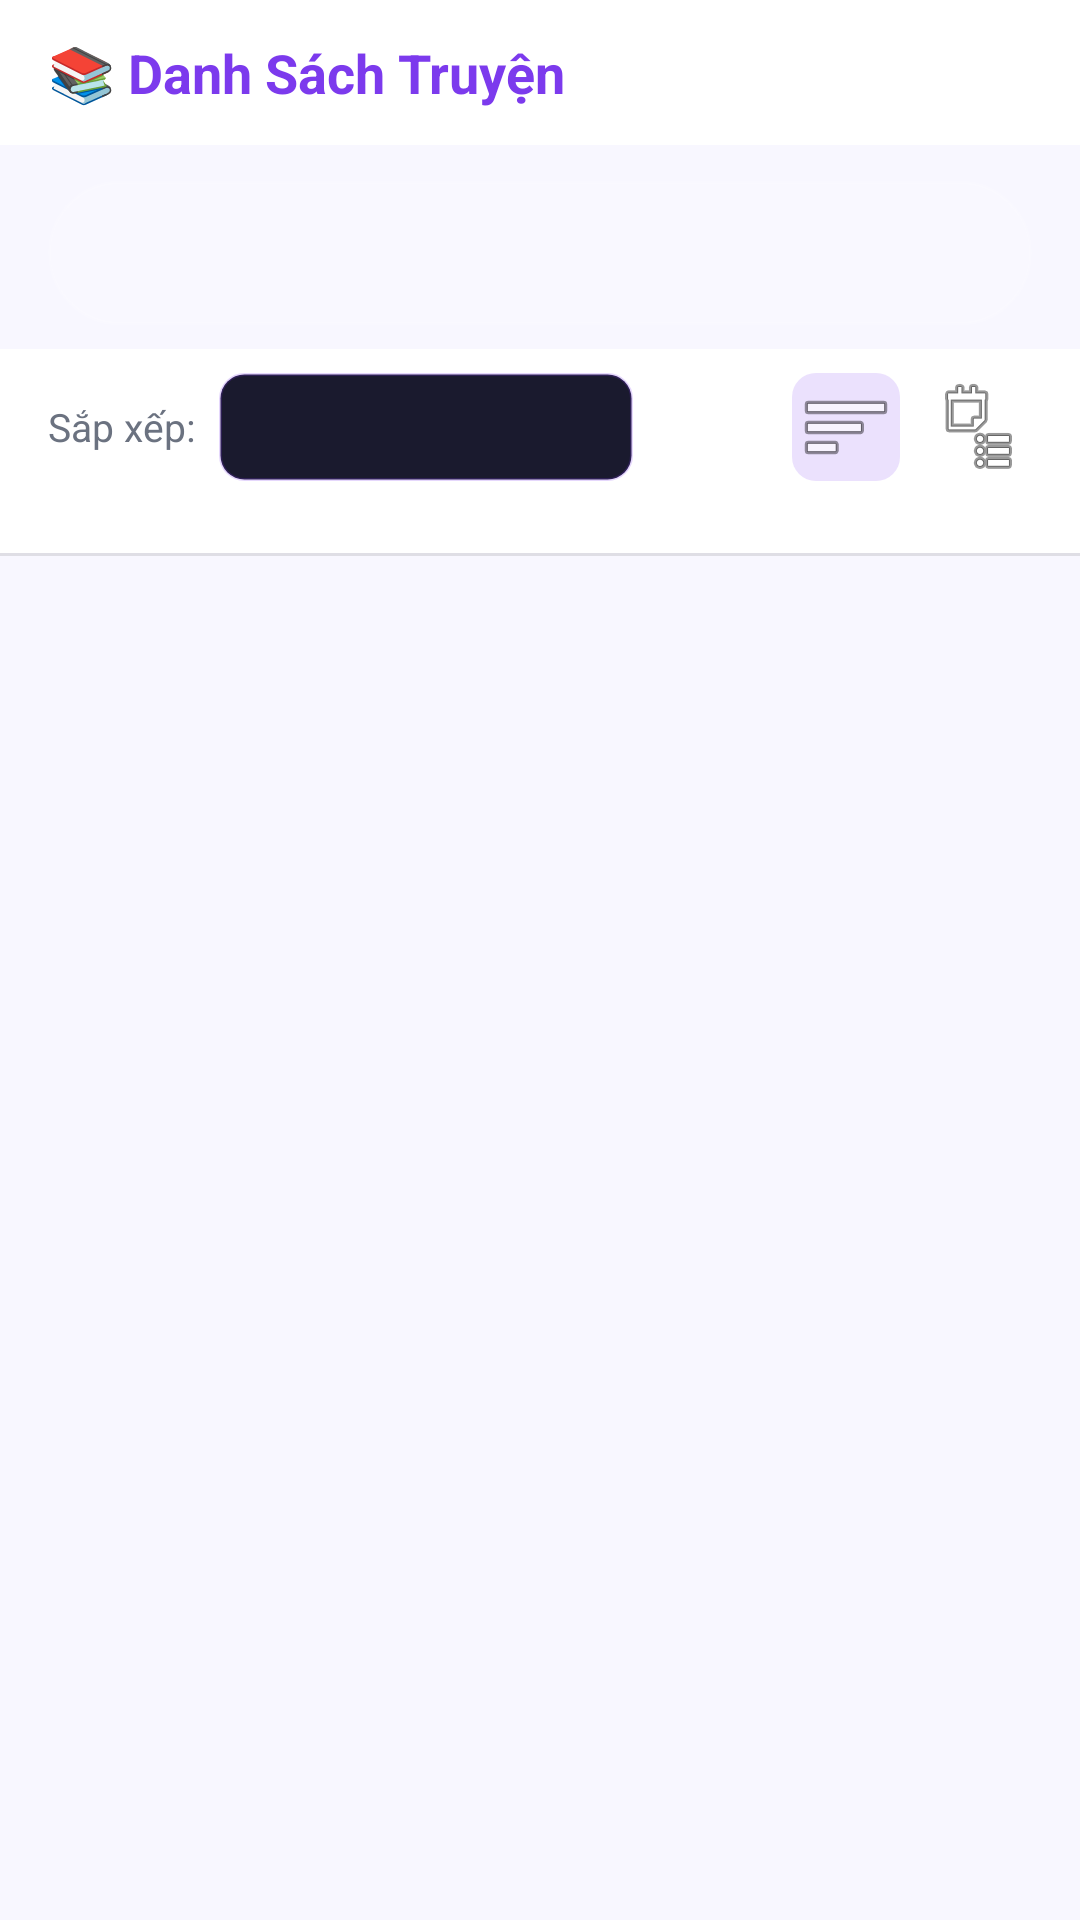

Named icons in this screenshot (1080w x 1920h) and their centers, (x=x, y=y):
agenda: (x=978, y=426)
sort by size: (x=846, y=427)
